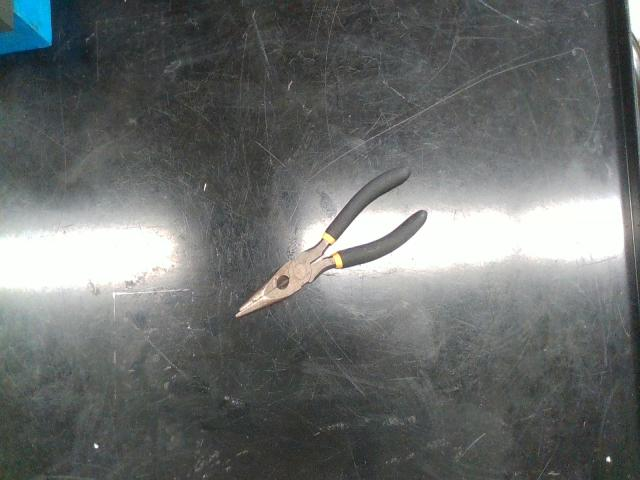Needle-nose pliers: (236, 167, 428, 318)
